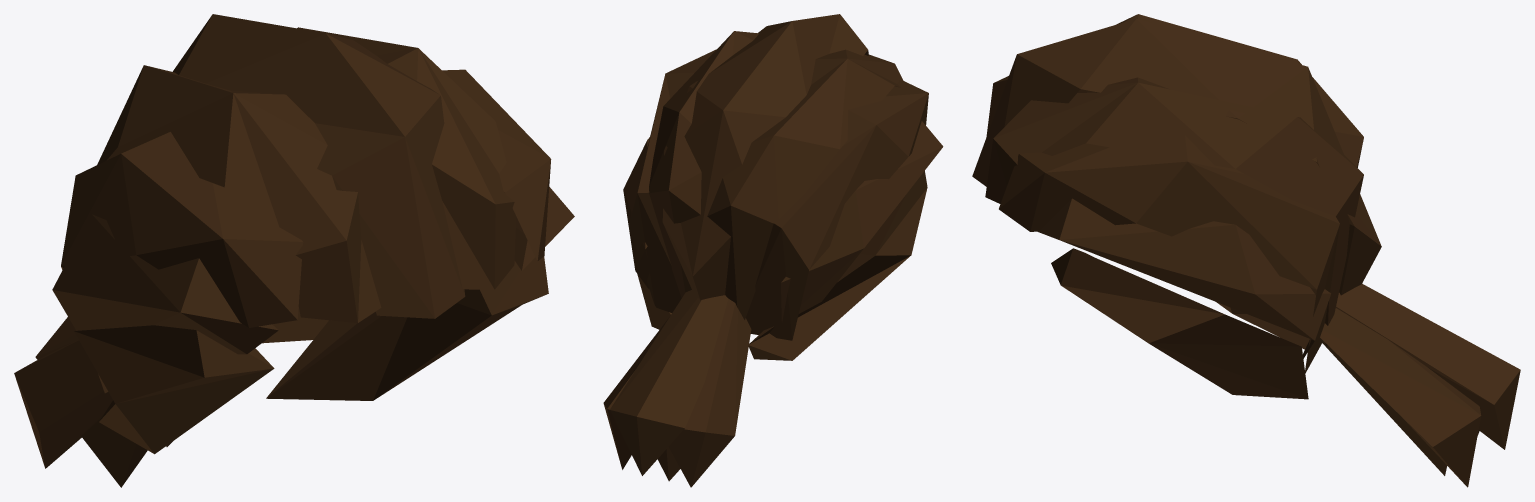
The model's file is hair-ponytail.low.71c0fa1f.glb.
3 renders of one model, left to right at view 1: azimuth 30°, elevation 25°; view 2: azimuth 150°, elevation 25°; view 3: azimuth 270°, elevation 25°, orthographic. The views are drawn at different scales.
Visible parts, largest first — view 1: hair-ponytail; view 2: hair-ponytail; view 3: hair-ponytail.
Boxes of the visible parts, x1,y1,x2,y2 form: hair-ponytail: (14, 14, 574, 487); hair-ponytail: (603, 14, 943, 487); hair-ponytail: (972, 14, 1520, 487).
Size of the model in its own units: 0.212 by 0.2999 by 0.3253.
